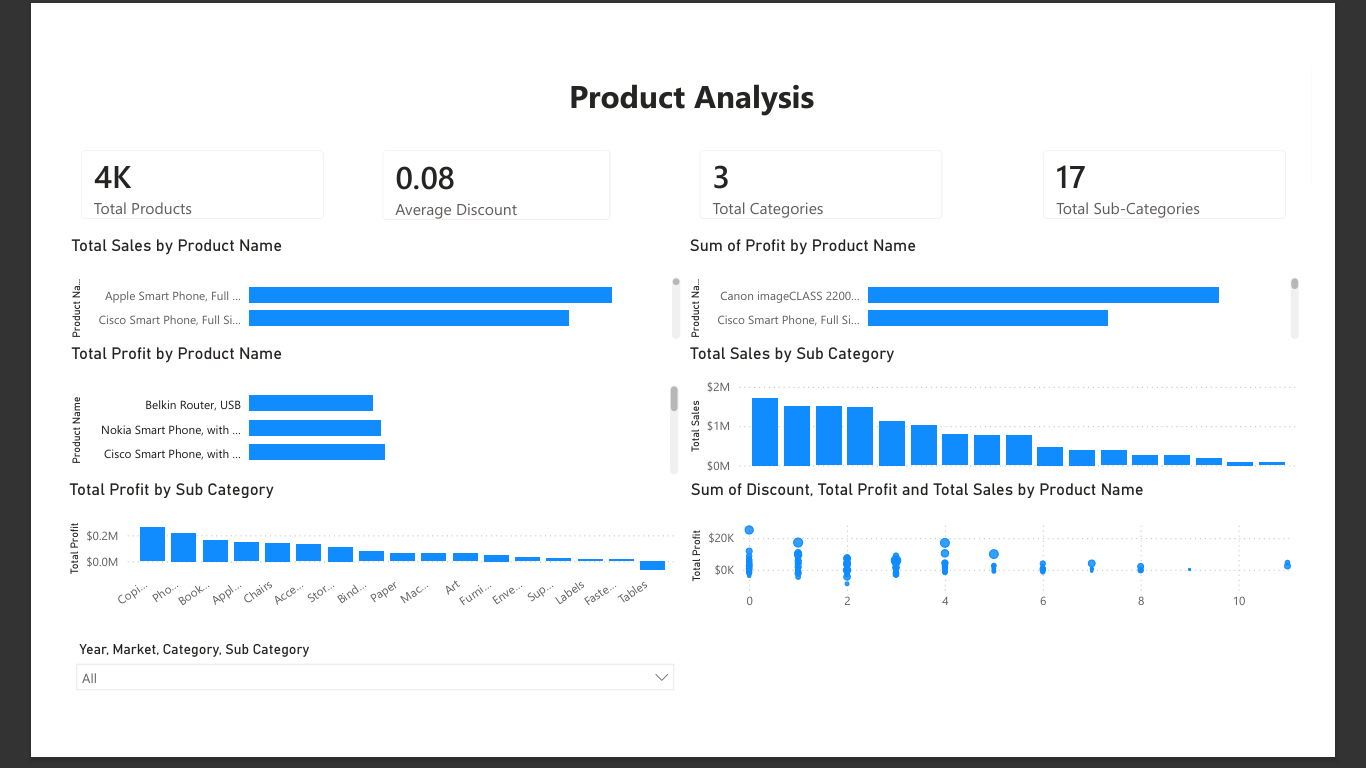

What the dashboard file says about the page in this screenshot:
{"tool":"powerbi","page":{"name":"Product Analysis.","canvas":[1280,720],"ordinal":1},"visuals":[{"type":"textbox","box":[9.6,42.7,1260.7,59.2],"z":0},{"type":"cardVisual","fields":{"Data":["superstore.Total Products"]},"box":[9.6,109,280.7,104.1],"z":0,"group":"g2"},{"type":"clusteredBarChart","fields":{"Category":["superstore.Product Name"],"Y":["superstore.Total Profit"]},"box":[12.4,323.4,628,137.6],"z":0,"group":"g3"},{"type":"cardVisual","fields":{"Data":["superstore.Total Categories"]},"box":[639.9,109,280.9,104.1],"z":1000,"group":"g2"},{"type":"group","id":"g1","title":"Group 1","box":[11.9,213.3,1259.7,110.1],"z":1000},{"type":"clusteredColumnChart","fields":{"Category":["superstore.Sub Category"],"Y":["superstore.Total Sales"]},"box":[642.1,323.4,629.7,137.6],"z":1000,"group":"g3"},{"type":"group","id":"g2","title":"Group 2","box":[9.6,108.7,1260.7,104.6],"z":2000},{"type":"cardVisual","fields":{"Data":["superstore.Total Sub-Categories"]},"box":[989.4,109,280.9,104.1],"z":2000,"group":"g2"},{"type":"cardVisual","fields":{"Data":["superstore.Average Discount"]},"box":[316.5,108.7,265.8,104.6],"z":3000,"group":"g2"},{"type":"clusteredColumnChart","fields":{"Category":["superstore.Sub Category"],"Y":["superstore.Total Profit"]},"box":[9.6,461.1,630.4,141.8],"z":3000},{"type":"scatterChart","fields":{"X":["Sum(superstore.Discount)"],"Y":["superstore.Total Profit"],"Category":["superstore.Product Name"],"Size":["superstore.Total Sales"]},"box":[642.8,461.1,629.8,142.2],"z":4000},{"type":"clusteredBarChart","fields":{"Category":["superstore.Product Name"],"Y":["superstore.Total Sales"]},"box":[11.9,213.3,629.8,110.1],"z":5000,"group":"g1"},{"type":"slicer","fields":{"Values":["Calendar.Year","superstore.Market","superstore.Category","superstore.Sub Category"]},"box":[12.4,620.7,629,75.7],"z":5000},{"type":"clusteredBarChart","fields":{"Category":["superstore.Product Name"],"Y":["Sum(superstore.Profit)"]},"box":[641.7,213.3,629.8,110.1],"z":6000,"group":"g1"},{"type":"group","id":"g3","title":"Group 3","box":[12.4,323.4,1259.4,137.6],"z":6000}]}

Visuals, with their boxes in screenshot pixels (x1, y1, x2, y2), scaled from the page's 1280x720 canvas onto the 1366x768 screenshot:
textbox: bbox=(10, 46, 1356, 109)
cardVisual - superstore.Total Products: bbox=(10, 116, 310, 227)
clusteredBarChart - superstore.Product Name x superstore.Total Profit: bbox=(13, 345, 683, 492)
cardVisual - superstore.Total Categories: bbox=(683, 116, 983, 227)
"Group 1" group: bbox=(13, 228, 1357, 345)
clusteredColumnChart - superstore.Sub Category x superstore.Total Sales: bbox=(685, 345, 1357, 492)
"Group 2" group: bbox=(10, 116, 1356, 228)
cardVisual - superstore.Total Sub-Categories: bbox=(1056, 116, 1356, 227)
cardVisual - superstore.Average Discount: bbox=(338, 116, 621, 228)
clusteredColumnChart - superstore.Sub Category x superstore.Total Profit: bbox=(10, 492, 683, 643)
scatterChart - Sum(superstore.Discount) x superstore.Total Profit: bbox=(686, 492, 1358, 644)
clusteredBarChart - superstore.Product Name x superstore.Total Sales: bbox=(13, 228, 685, 345)
slicer - Calendar.Year x superstore.Market: bbox=(13, 662, 684, 743)
clusteredBarChart - superstore.Product Name x Sum(superstore.Profit): bbox=(685, 228, 1357, 345)
"Group 3" group: bbox=(13, 345, 1357, 492)
